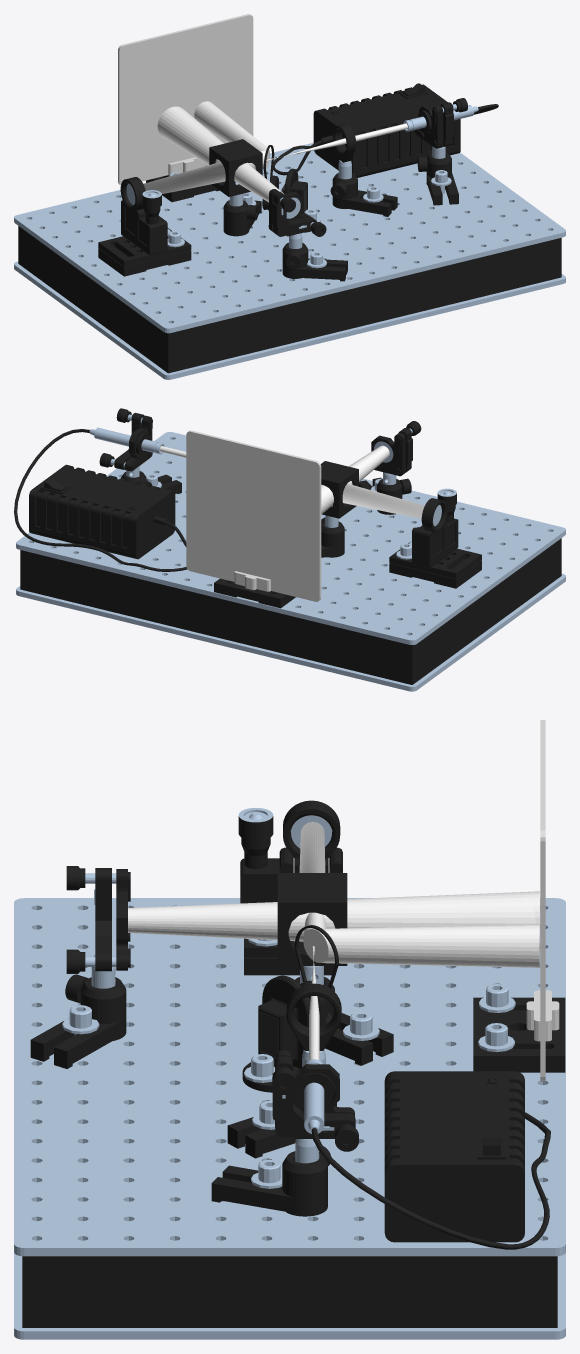
File: MIS1_230321.glb
3 renders of one model, top to bottom at view 1: azimuth 30°, elevation 25°; view 2: azimuth 150°, elevation 25°; view 3: azimuth 270°, elevation 25°, orthographic. The views are drawn at different scales.
Parts seen in each view (by area): view 1: Base, Schirm, SD5, TranslateMirror, LaserBeam, Mirror1, Laser, LaserBeamBS, Thorlabs Servo Mount Loose V1 Stand; view 2: Base, Schirm, SD5, TranslateMirror, Laser, LaserBeam, Mirror1; view 3: Base, SD5, LaserBeam, Laser, Mirror1, LaserBeamBS, Schirm, TranslateMirror, Thorlabs Servo Mount Loose V1 Stand.
Boxes of the visible parts, x1,y1,x2,y2 form: Base: (14, 104, 565, 379); Schirm: (118, 14, 253, 202); SD5: (313, 83, 460, 177); TranslateMirror: (98, 177, 191, 276); LaserBeam: (143, 106, 407, 202); Mirror1: (268, 189, 347, 281); Laser: (403, 98, 478, 205); LaserBeamBS: (194, 101, 269, 169); Thorlabs Servo Mount Loose V1 Stand: (284, 168, 311, 232); Base: (14, 429, 565, 691); Schirm: (186, 430, 321, 608); SD5: (29, 464, 175, 559); TranslateMirror: (389, 488, 481, 588); Laser: (89, 408, 181, 493); LaserBeam: (160, 445, 424, 518); Mirror1: (359, 421, 421, 514); Base: (14, 873, 565, 1339); SD5: (384, 1071, 524, 1242); LaserBeam: (128, 822, 539, 1060); Laser: (211, 1050, 358, 1216); Mirror1: (30, 866, 130, 1068); LaserBeamBS: (303, 912, 539, 967); Schirm: (473, 720, 565, 1081); TranslateMirror: (238, 800, 342, 975); Thorlabs Servo Mount Loose V1 Stand: (242, 975, 310, 1092).
Bounding box in the file's own units: 4.84 × 2.16 × 3.
